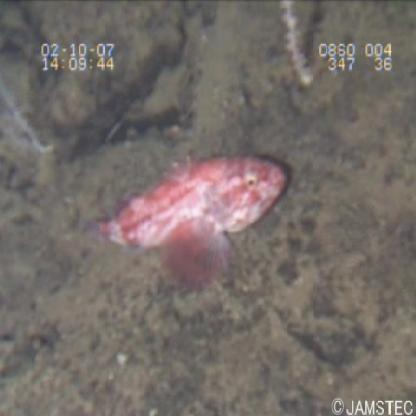Bio: (80, 146, 296, 290)
